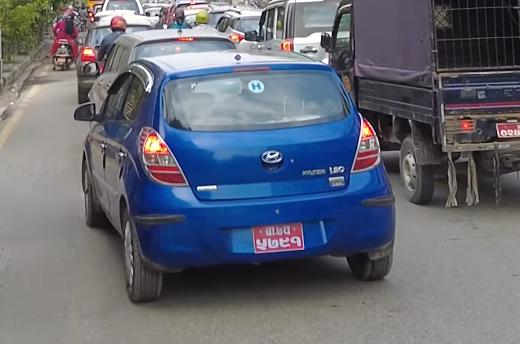car: (65, 49, 413, 294)
